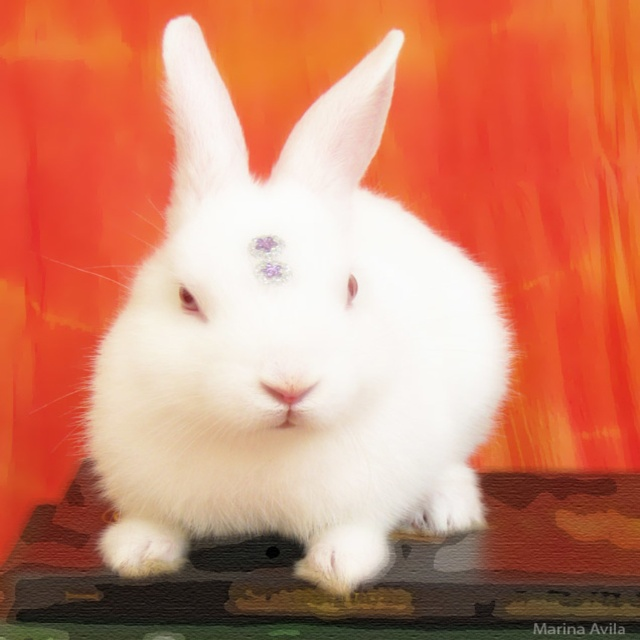Rabbit: (30, 15, 521, 598)
